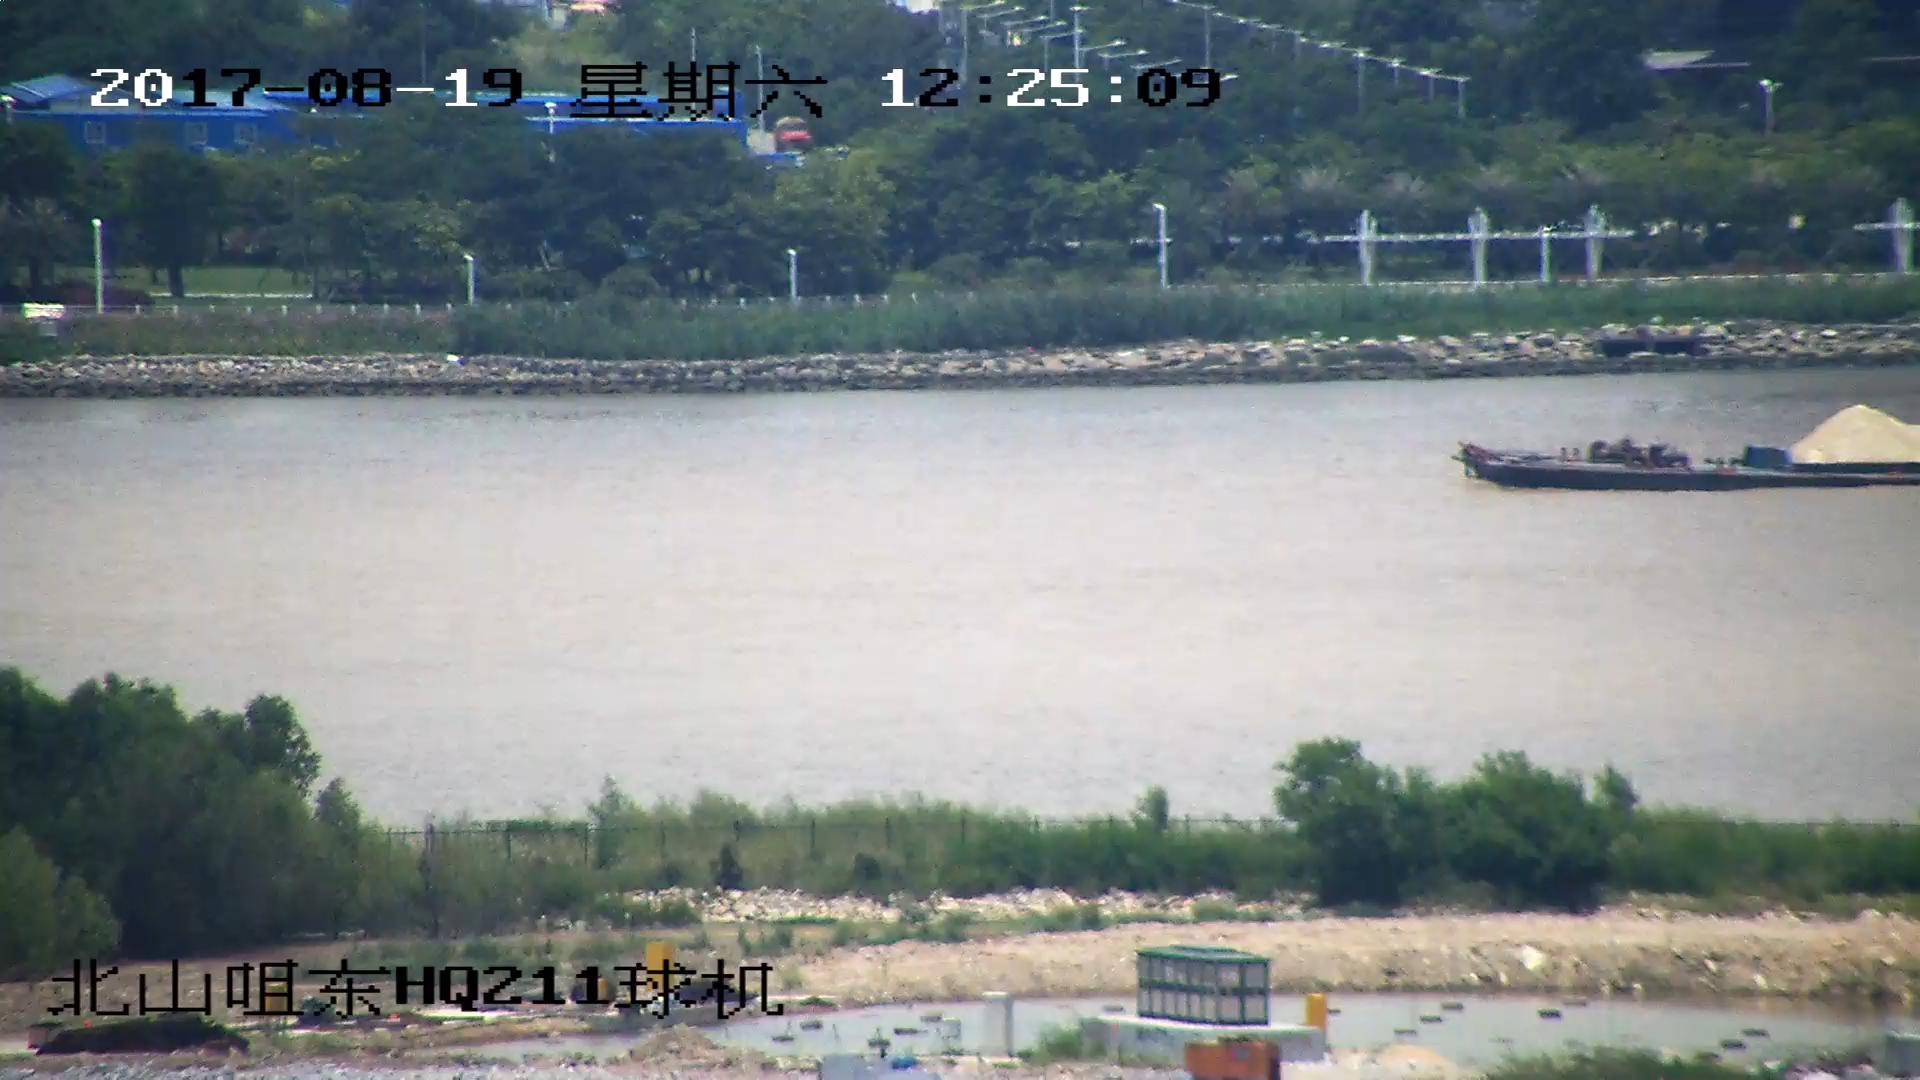Ship: (1457, 400, 1920, 495)
